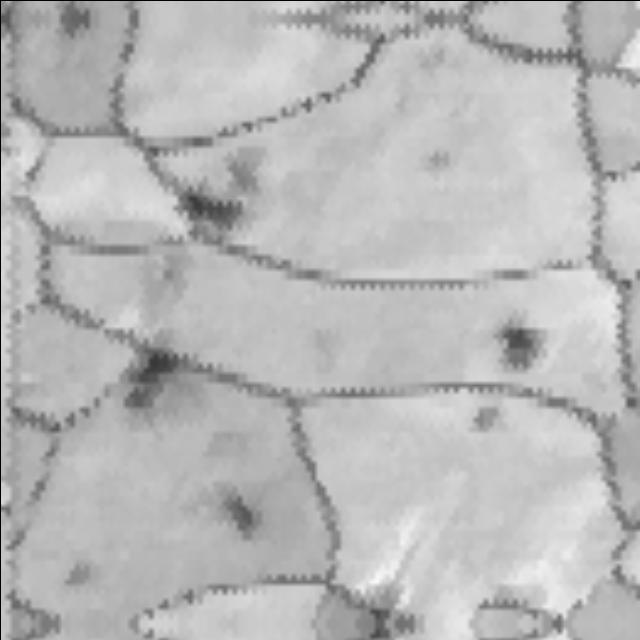good_void: (119, 346, 197, 407), (172, 187, 246, 237), (492, 323, 546, 372), (211, 492, 269, 536), (461, 401, 504, 435), (63, 554, 93, 588)
